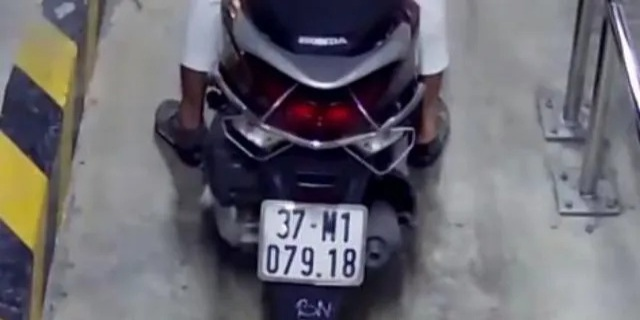bien_so: (260, 201, 364, 288)
